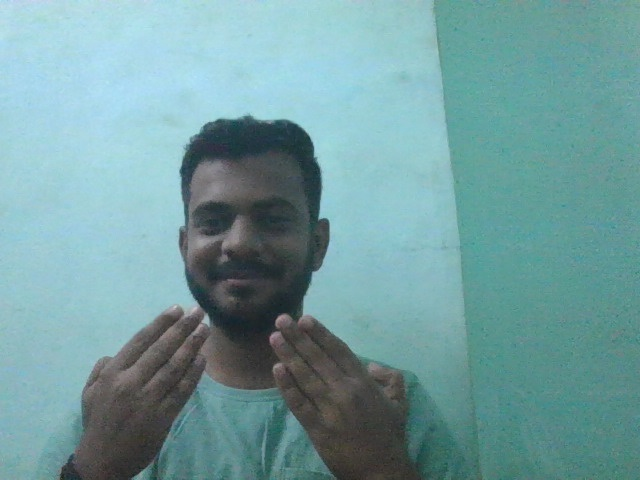thankyou: (68, 298, 444, 462)
